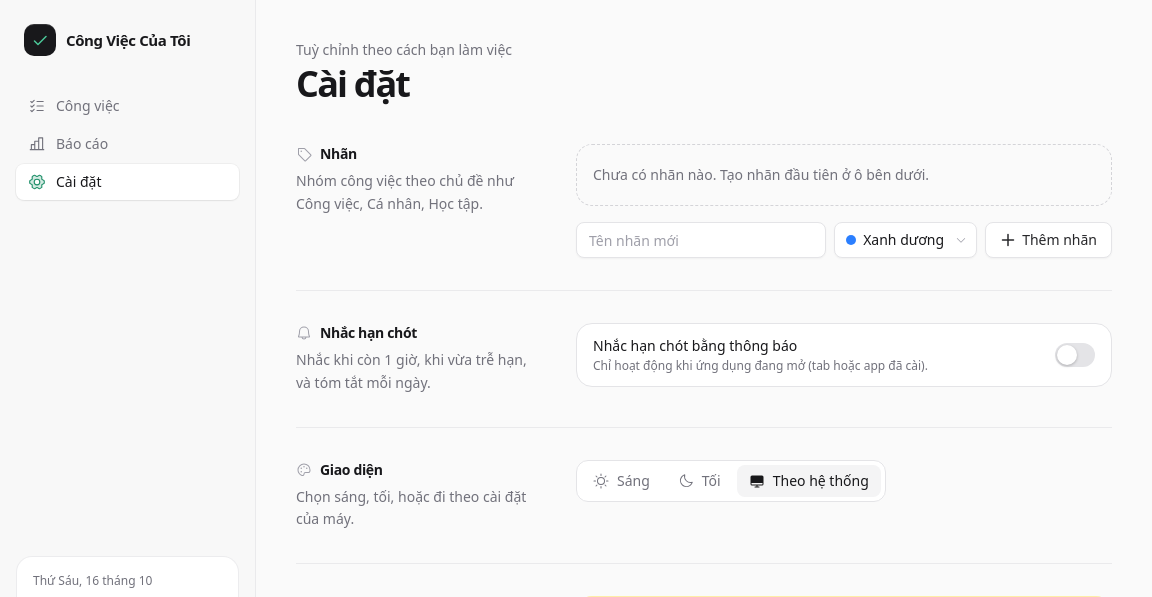
Test: nhắc hạn chót › bị từ chối quyền thì tắt và giải thích
This screenshot has width=1152, height=597.
Step 1. Click the checkbox labelled "Nhắc hạn chót bằng thông báo" → (844, 355), box [576,323,1112,387]
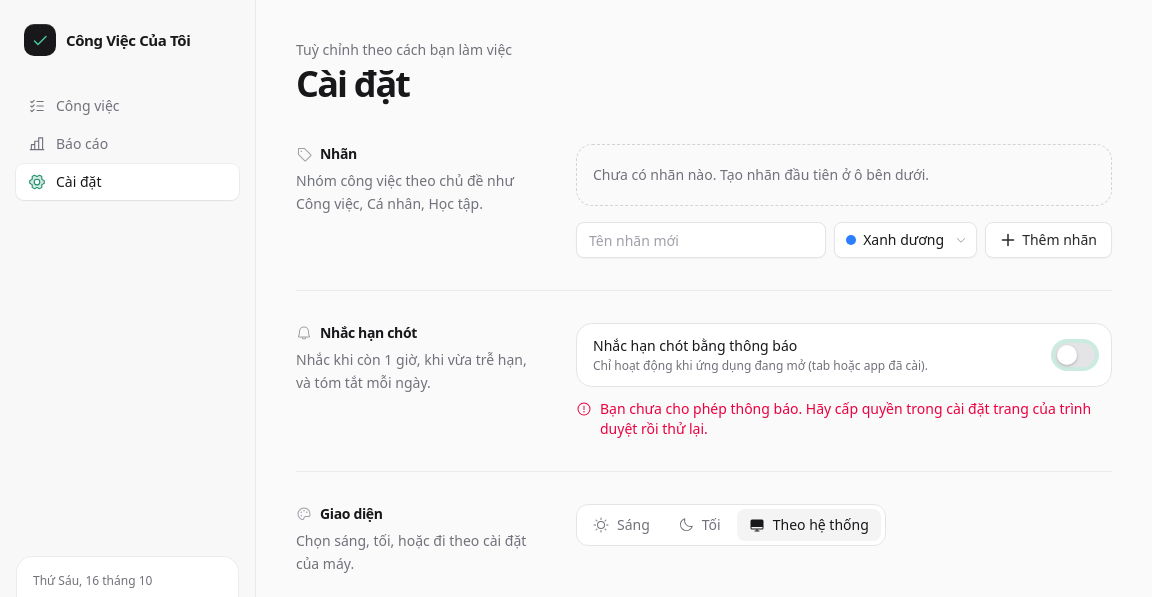
Expected: the text "Bạn chưa cho phép thông báo" is shown, [600,399,1091,438]
